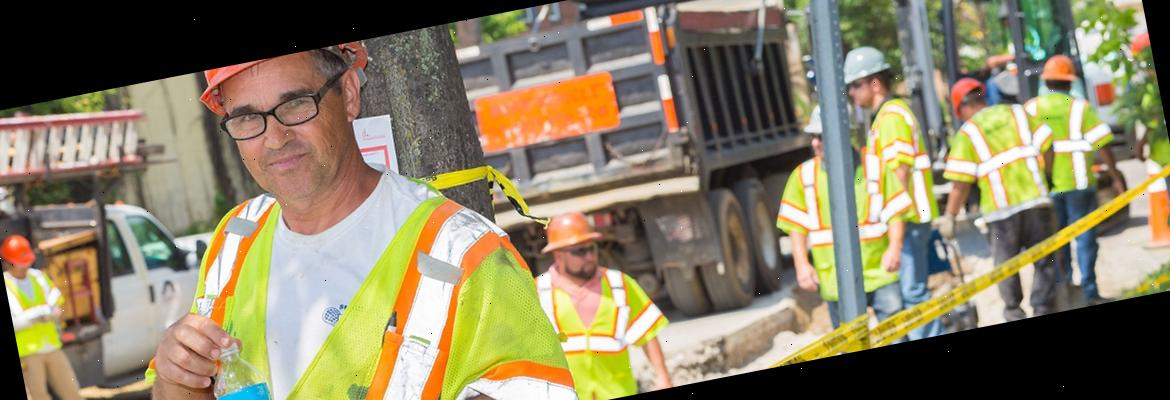helmet: (532, 202, 604, 256), (800, 94, 860, 140), (840, 41, 893, 88), (478, 354, 542, 385), (944, 73, 986, 116), (1036, 50, 1086, 86), (0, 229, 40, 272)
wear: (170, 164, 564, 400), (784, 150, 896, 300), (532, 260, 648, 400), (956, 103, 1056, 220), (862, 102, 942, 235), (1024, 90, 1101, 198), (4, 268, 63, 355)
